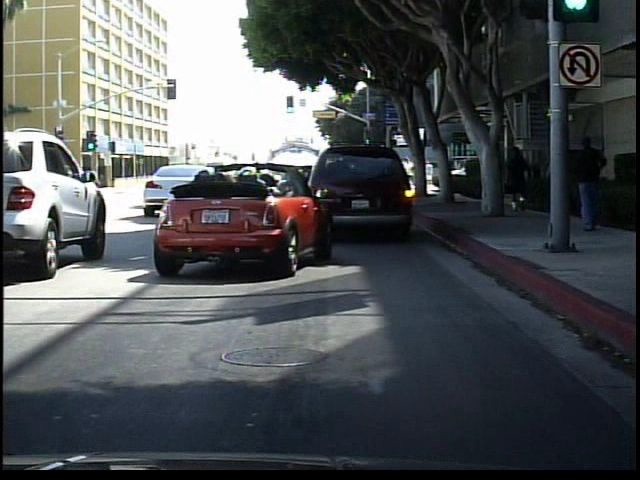person: (567, 130, 615, 237), (504, 141, 533, 214)
